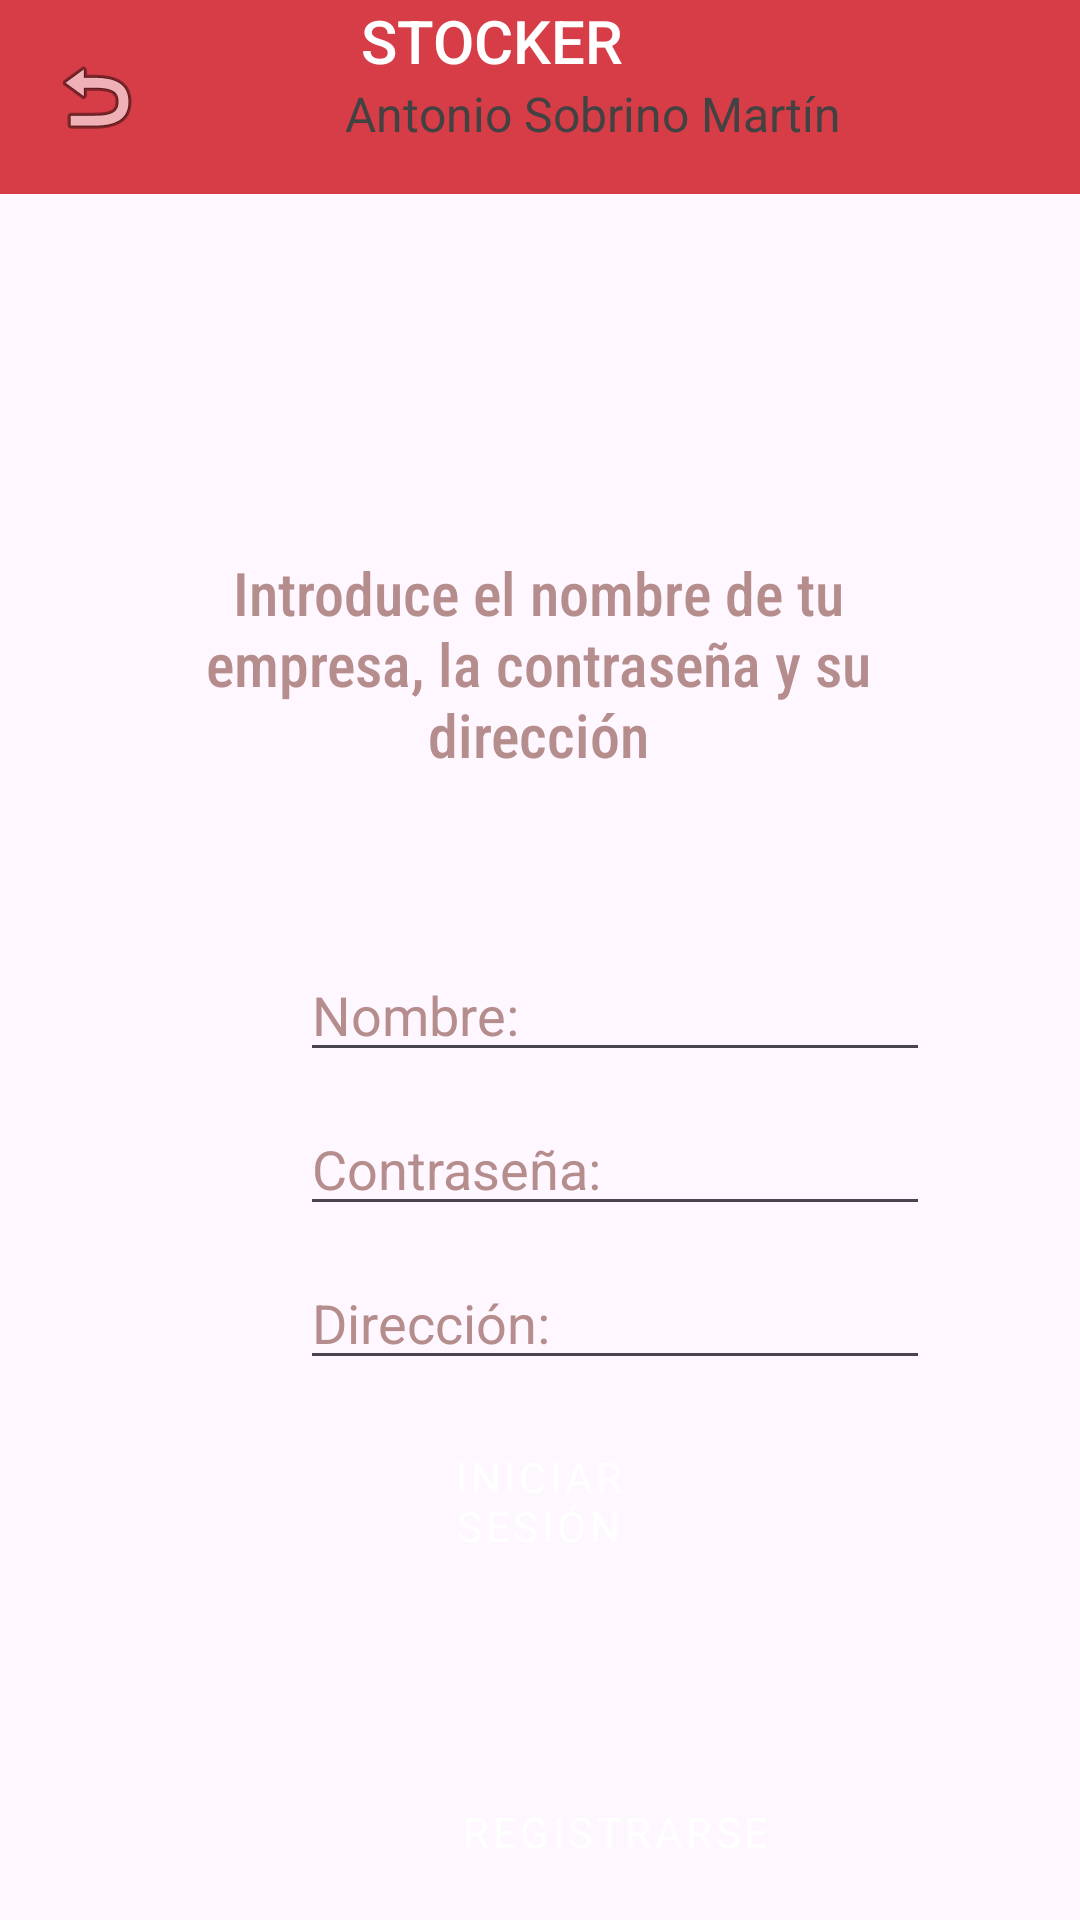

Screen size 1080*1920. Icon name, then its box in pixels as {"left": x1, "top": y1, "right": x2, "bottom": y2}:
revert: {"left": 63, "top": 66, "right": 132, "bottom": 129}
